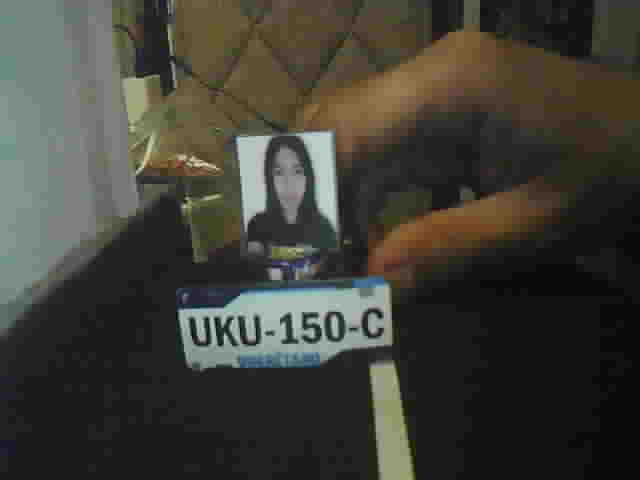PLACA: (173, 275, 396, 374)
ROSTRO: (245, 137, 340, 249)
